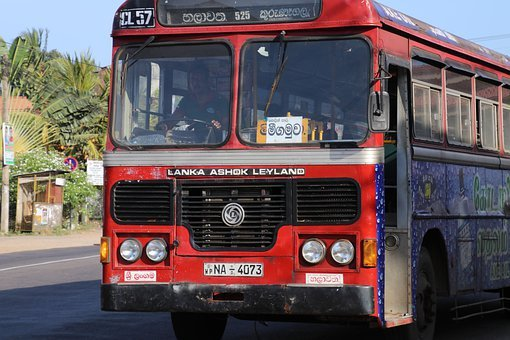bus: (101, 1, 510, 340)
